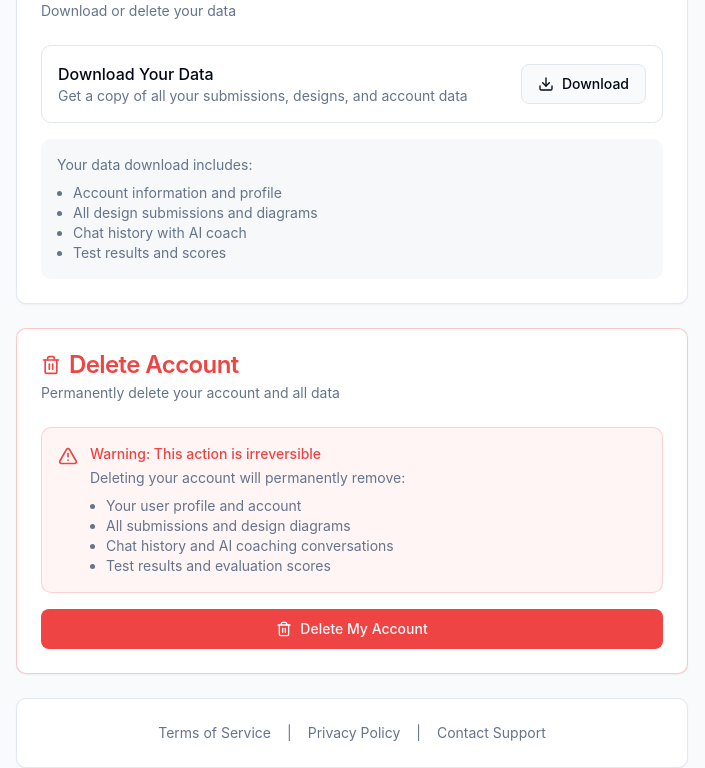
it: AccountSettings › Delete account functionality › shows error message when deletion fails
(page scrolled)
Step 1. Click the button "Delete My Account" → x=352, y=629, box [41,609,663,649]
(page scrolled)
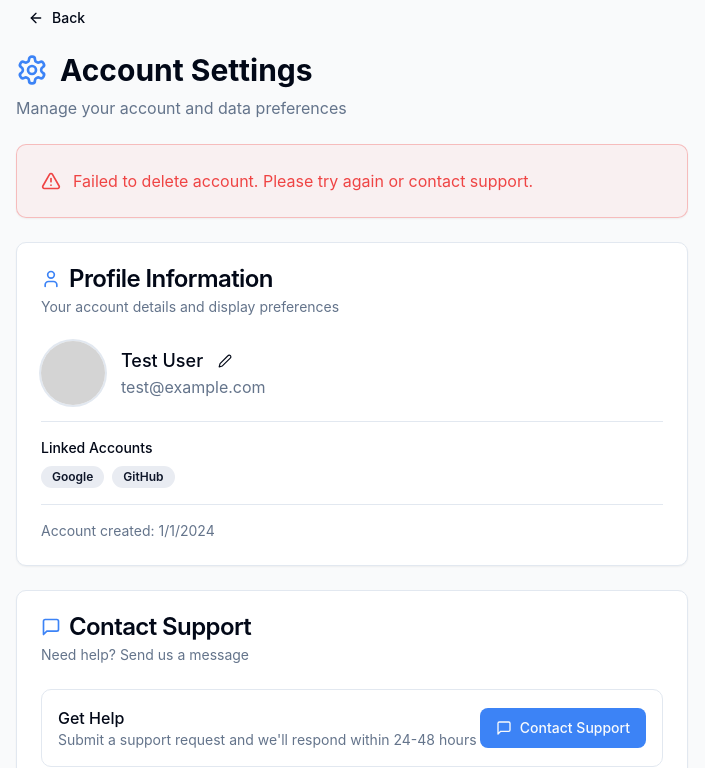
Check: the text "Failed to delete account" is shown, box [73,171,533,191]
